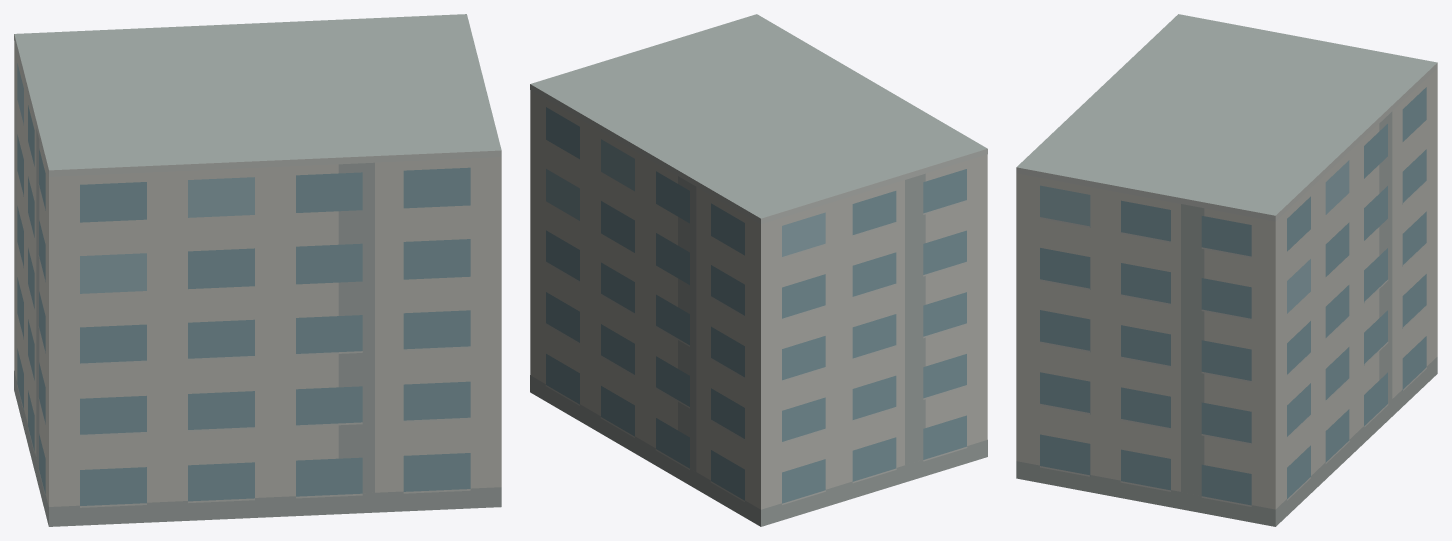
File: survey-upis-32523946.glb
3 views of the same model, side by side, from view 1: azimuth 30°, elevation 25°; view 2: azimuth 150°, elevation 25°; view 3: azimuth 270°, elevation 25° (orthographic). The views are drawn at different scales.
Parts seen in each view (by area): view 1: survey-upis-32523946.tmp; view 2: survey-upis-32523946.tmp; view 3: survey-upis-32523946.tmp.
Part boxes in pixels (x1=…): survey-upis-32523946.tmp: x1=14, y1=14, x2=501, y2=526; survey-upis-32523946.tmp: x1=530, y1=14, x2=987, y2=526; survey-upis-32523946.tmp: x1=1016, y1=14, x2=1437, y2=526.
Bounding box in the file's own units: 18.08 × 13 × 15.96.
